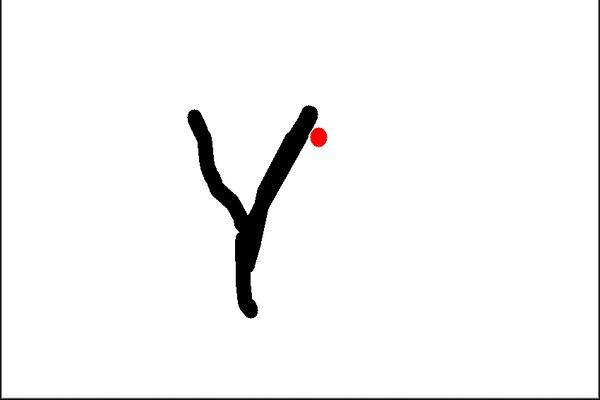Y: (176, 98, 334, 320)
